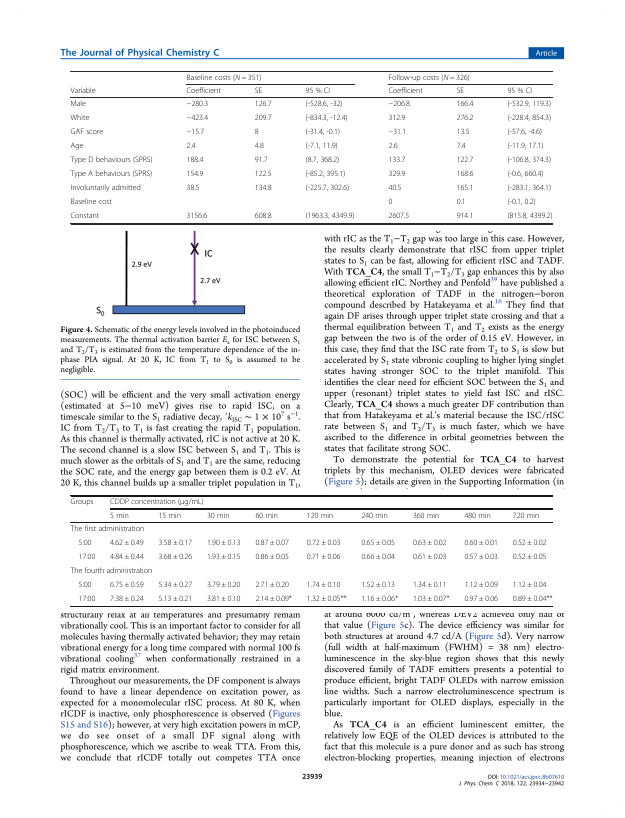borderless: (69, 69, 552, 223), (69, 494, 553, 606)
cell: (109, 498, 205, 507), (69, 155, 153, 165), (69, 169, 153, 179), (70, 566, 153, 576), (387, 73, 471, 82), (70, 524, 145, 534), (69, 183, 142, 193), (186, 73, 262, 82), (305, 211, 355, 221), (506, 211, 553, 221), (506, 99, 552, 109), (506, 113, 552, 123), (506, 155, 552, 165), (506, 183, 552, 193), (305, 183, 350, 193), (69, 197, 113, 207), (305, 113, 348, 123), (306, 594, 347, 604), (512, 594, 553, 604), (305, 169, 346, 179), (254, 594, 293, 604), (360, 594, 399, 604), (412, 594, 450, 604), (305, 99, 343, 109), (506, 141, 544, 151), (506, 169, 544, 179), (387, 86, 424, 96), (506, 127, 543, 137), (109, 538, 145, 548), (157, 538, 193, 548), (254, 538, 290, 548), (360, 538, 396, 548), (463, 538, 499, 548), (109, 552, 145, 562), (157, 552, 193, 562), (254, 552, 290, 562), (360, 552, 396, 562), (463, 552, 499, 562), (109, 580, 145, 590), (157, 580, 193, 590), (254, 580, 290, 590), (360, 580, 396, 590), (463, 580, 499, 590), (109, 594, 145, 604), (157, 594, 193, 604), (463, 594, 499, 604), (186, 86, 222, 96), (305, 127, 341, 137), (206, 538, 241, 548), (306, 538, 341, 548), (412, 538, 447, 548), (512, 538, 547, 548), (206, 552, 241, 562), (306, 552, 341, 562), (412, 552, 447, 562), (512, 552, 547, 562), (206, 580, 241, 590), (306, 580, 341, 590), (412, 580, 447, 590), (512, 580, 547, 590), (206, 594, 241, 604), (69, 127, 104, 137), (305, 155, 340, 165), (305, 141, 339, 151), (506, 197, 537, 207), (69, 211, 100, 221), (69, 86, 96, 96), (506, 86, 533, 96), (360, 511, 389, 520), (463, 511, 492, 520), (305, 86, 331, 96), (306, 511, 334, 520), (412, 511, 440, 520), (512, 511, 540, 520), (387, 99, 411, 109), (186, 99, 209, 109), (186, 113, 209, 123), (387, 211, 410, 221), (157, 511, 182, 520), (254, 511, 279, 520), (186, 211, 208, 221), (70, 498, 94, 507), (206, 511, 230, 520), (69, 113, 90, 123), (387, 127, 407, 137), (77, 552, 96, 562), (77, 594, 96, 604), (387, 113, 406, 123), (186, 127, 205, 137), (387, 155, 406, 165), (387, 169, 406, 179), (109, 511, 130, 520), (69, 99, 87, 109), (254, 99, 272, 109), (456, 99, 474, 109), (254, 113, 272, 123), (456, 113, 474, 123), (186, 155, 204, 165), (456, 155, 474, 165), (186, 169, 204, 179), (254, 169, 272, 179), (456, 169, 474, 179), (254, 183, 272, 193), (456, 183, 474, 193), (254, 211, 272, 221), (456, 211, 474, 221), (77, 538, 92, 548), (77, 580, 92, 590), (69, 141, 84, 151), (254, 155, 269, 165), (387, 183, 402, 193), (456, 127, 470, 137), (186, 183, 200, 193), (186, 141, 197, 151), (254, 141, 265, 151), (387, 141, 398, 151), (456, 141, 467, 151), (456, 197, 467, 207), (254, 86, 263, 96), (456, 86, 465, 96), (254, 127, 260, 137), (387, 197, 393, 207)
